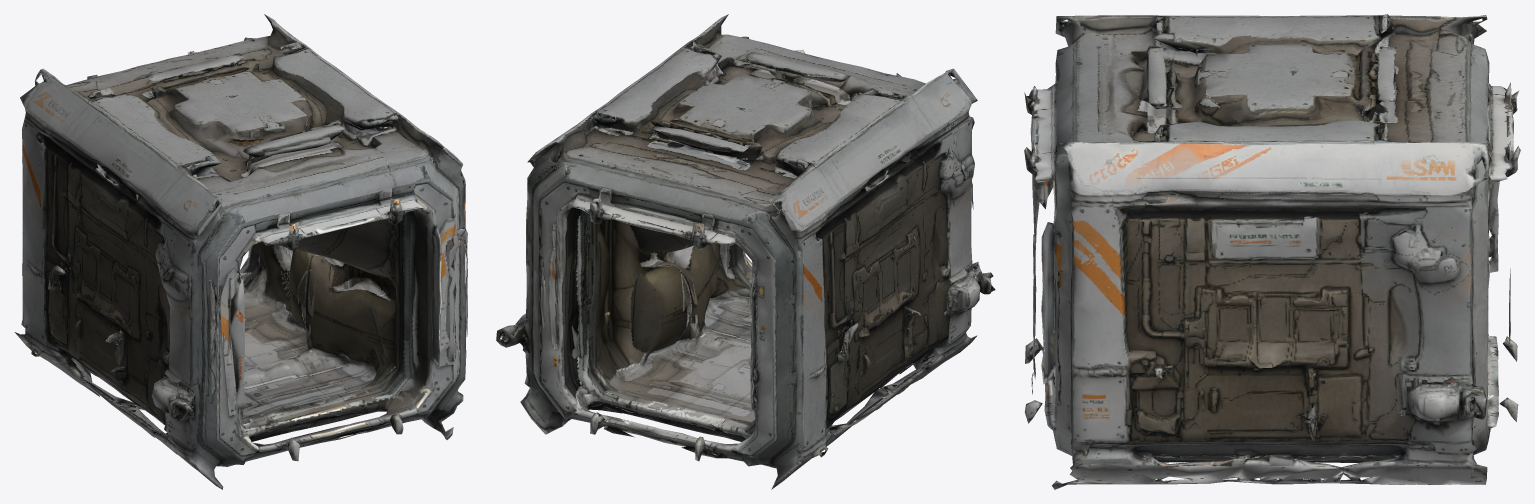
Rendered from PortModule.fbx.
The picture shows the model from 3 angles, left to right: view 1: azimuth 30°, elevation 25°; view 2: azimuth 150°, elevation 25°; view 3: azimuth 270°, elevation 25°; orthographic projection. The views are drawn at different scales.
Visible parts, largest first — view 1: texture_mapping; view 2: texture_mapping; view 3: texture_mapping.
Boxes of the visible parts, box(x1,y1,x2,y2) form: texture_mapping: box(14, 14, 467, 489); texture_mapping: box(496, 14, 995, 489); texture_mapping: box(1024, 14, 1520, 489).
Bounding box in the file's own units: 0.8664 × 0.9828 × 0.7705.
1 material, 1 textured.
